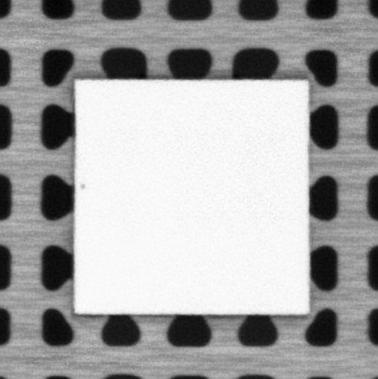DIE_INK: (79, 180, 88, 191)
